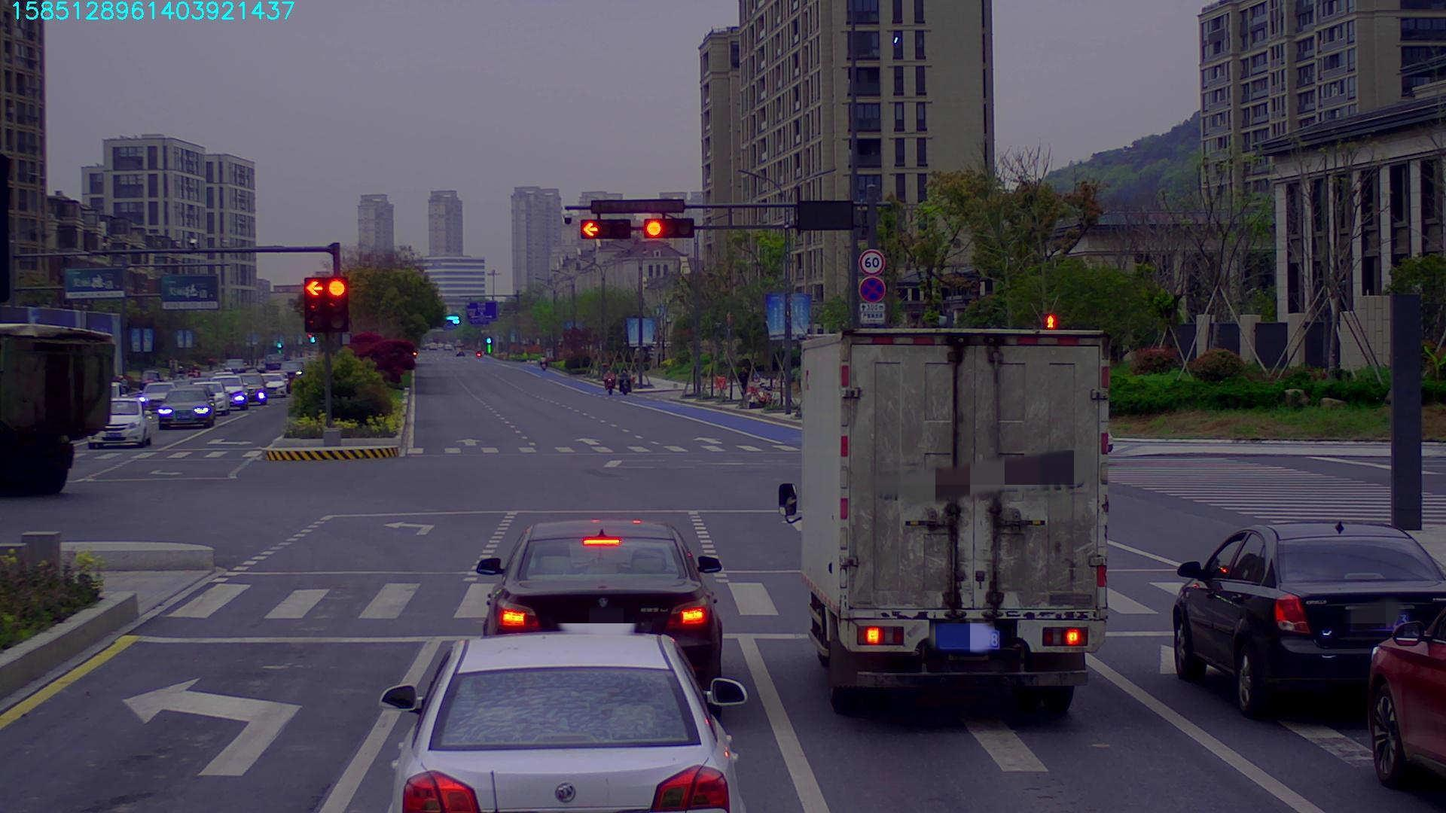red: (576, 219, 631, 239), (642, 218, 691, 235)
